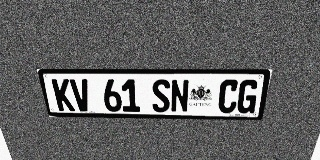1: (120, 79, 140, 112)
6: (101, 79, 122, 112)
C: (217, 80, 240, 113)
G: (236, 80, 260, 113)
K: (51, 79, 75, 111)
N: (171, 79, 189, 113)
S: (151, 79, 170, 112)
V: (69, 79, 92, 111)
